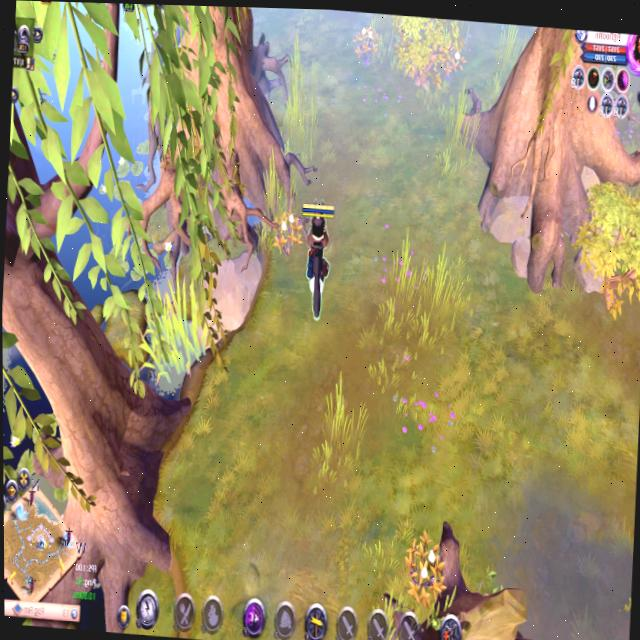hide: (396, 520, 456, 610), (432, 28, 471, 87), (268, 203, 305, 264), (347, 16, 385, 70)
red: (290, 191, 341, 340)
